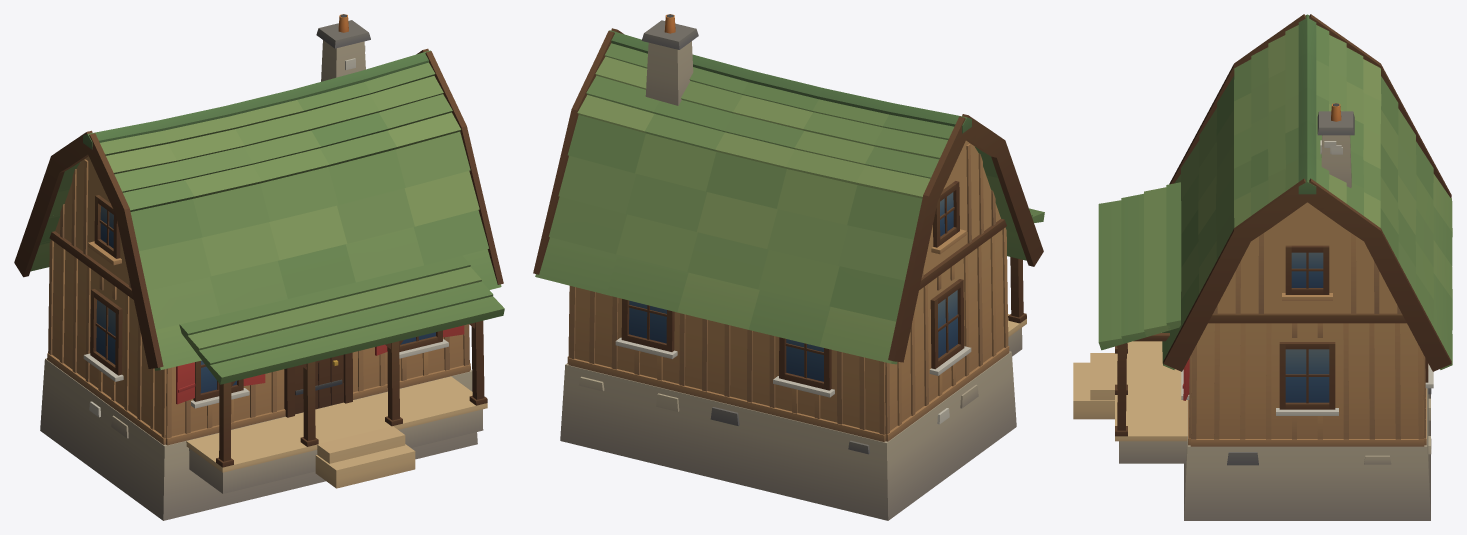
Rendered from house_08_plank_cabin.glb.
The picture shows the model from 3 angles, left to right: view 1: azimuth 30°, elevation 25°; view 2: azimuth 150°, elevation 25°; view 3: azimuth 270°, elevation 25°; orthographic projection. The views are drawn at different scales.
Parts seen in each view (by area): view 1: house_08_plank_cabin; view 2: house_08_plank_cabin; view 3: house_08_plank_cabin.
Part boxes in pixels (<box>): house_08_plank_cabin: <box>14,14,504,520</box>; house_08_plank_cabin: <box>533,14,1044,520</box>; house_08_plank_cabin: <box>1073,14,1452,520</box>.
Bounding box in the file's own units: 27.95 × 29.87 × 26.49.
1 material, 1 textured.
